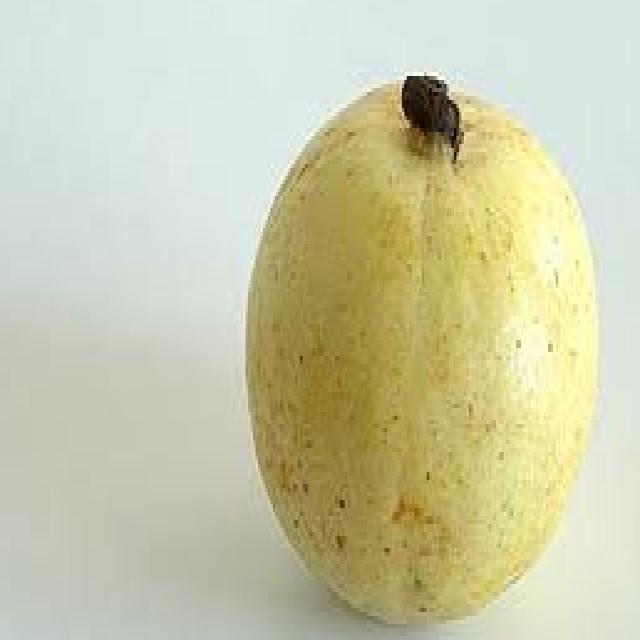guva: (240, 48, 612, 624)
